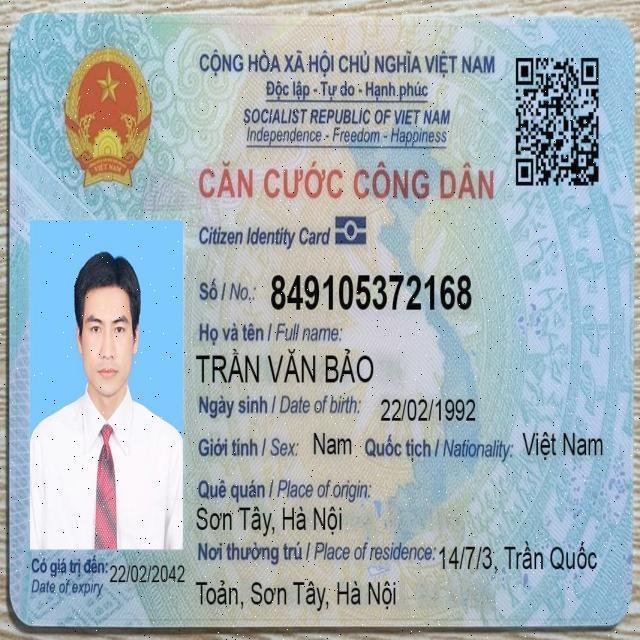current_place: (193, 576, 398, 614), (437, 535, 599, 576)
dob: (378, 393, 479, 426)
expire_date: (108, 559, 187, 587)
gender: (311, 428, 354, 460)
id: (268, 268, 475, 314)
name: (193, 345, 376, 387)
nationality: (520, 428, 605, 464)
origin_place: (195, 503, 345, 539)
